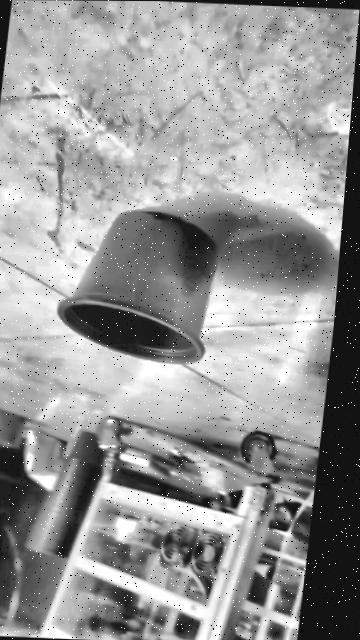pot: (53, 208, 223, 363)
